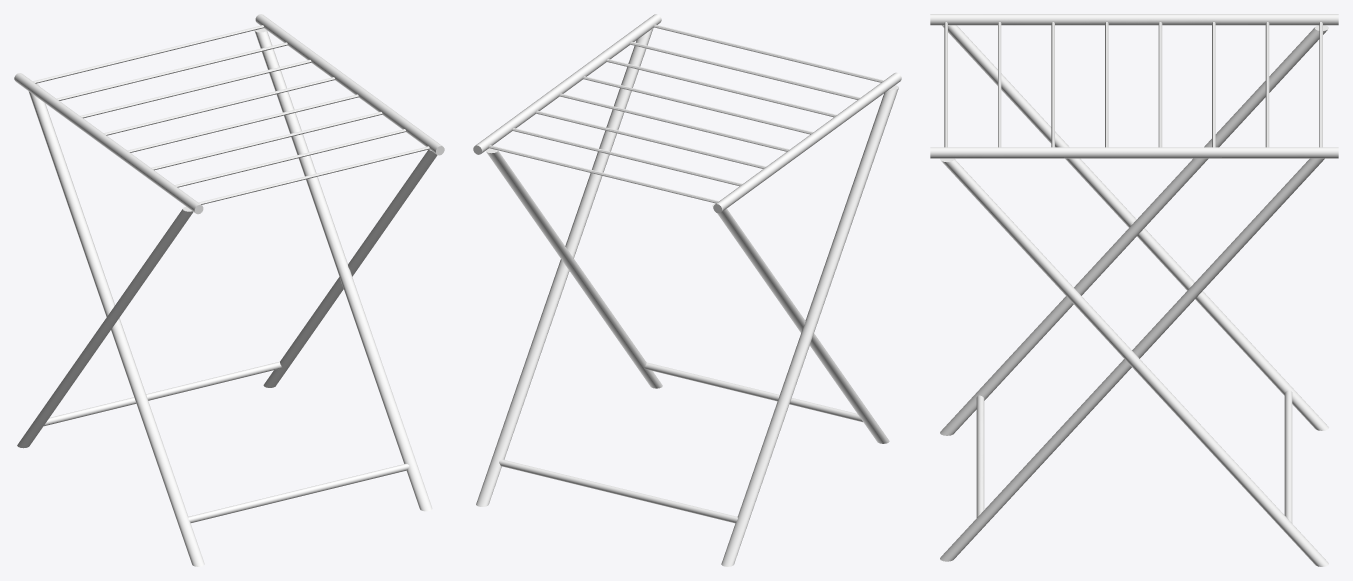
Rendered from drying_rack.fbx.
The picture shows the model from 3 angles, left to right: view 1: azimuth 30°, elevation 25°; view 2: azimuth 150°, elevation 25°; view 3: azimuth 270°, elevation 25°; orthographic projection. The views are drawn at different scales.
Visible parts, largest first — view 1: drying_rack_part_3, drying_rack_part_5, drying_rack_part_6, drying_rack_part_4, drying_rack_part_1, drying_rack_part_2; view 2: drying_rack_part_6, drying_rack_part_5, drying_rack_part_3, drying_rack_part_4, drying_rack_part_1, drying_rack_part_2; view 3: drying_rack_part_6, drying_rack_part_3, drying_rack_part_4, drying_rack_part_5, drying_rack_part_1, drying_rack_part_2.
Part boxes in pixels (<box>): drying_rack_part_3: <box>28,28,432,566</box>; drying_rack_part_5: <box>33,25,429,204</box>; drying_rack_part_6: <box>17,149,437,448</box>; drying_rack_part_4: <box>14,14,444,214</box>; drying_rack_part_1: <box>44,361,281,426</box>; drying_rack_part_2: <box>188,463,409,522</box>; drying_rack_part_6: <box>476,28,898,566</box>; drying_rack_part_5: <box>489,24,883,203</box>; drying_rack_part_3: <box>486,148,889,443</box>; drying_rack_part_4: <box>473,14,901,213</box>; drying_rack_part_1: <box>499,459,737,523</box>; drying_rack_part_2: <box>644,362,862,422</box>; drying_rack_part_6: <box>940,25,1328,566</box>; drying_rack_part_3: <box>940,25,1328,561</box>; drying_rack_part_4: <box>930,14,1338,158</box>; drying_rack_part_5: <box>944,22,1322,147</box>; drying_rack_part_1: <box>1284,390,1292,522</box>; drying_rack_part_2: <box>976,395,984,517</box>.
Bounding box in the file's own units: 59.08 × 80.32 × 71.65.
1 material, 1 textured.
